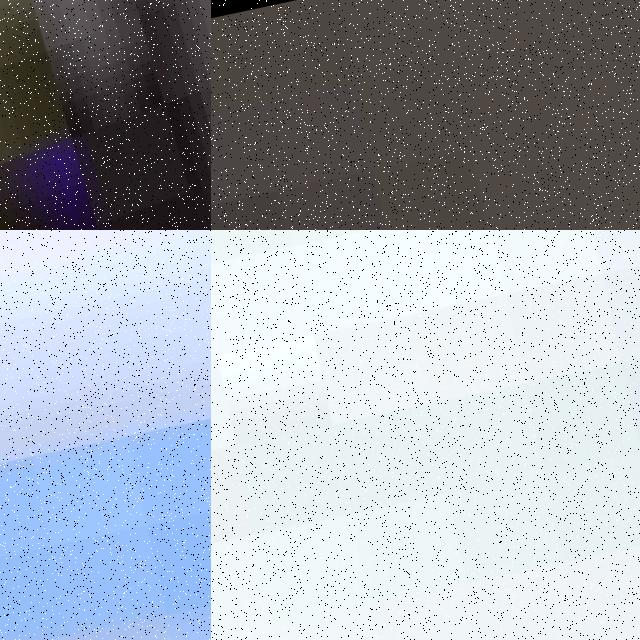drone: (0, 0, 211, 230)
